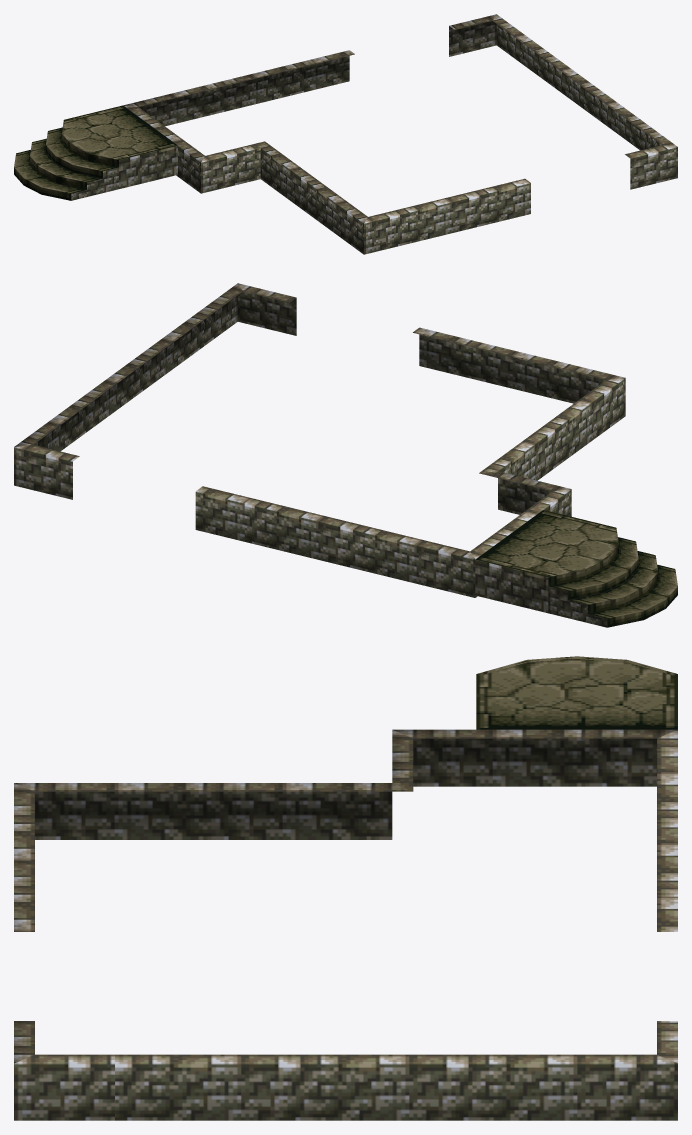
Rendered from EnvBdgMD_Forest_A_Outdoor_House_C_Base.fbx.
3 renders of one model, top to bottom at view 1: azimuth 30°, elevation 25°; view 2: azimuth 150°, elevation 25°; view 3: azimuth 270°, elevation 25°, orthographic. The views are drawn at different scales.
Visible parts, largest first — view 1: EnvBdgMD_Forest_A_Outdoor_House_C_Base; view 2: EnvBdgMD_Forest_A_Outdoor_House_C_Base; view 3: EnvBdgMD_Forest_A_Outdoor_House_C_Base.
Boxes of the visible parts, x1,y1,x2,y2 form: EnvBdgMD_Forest_A_Outdoor_House_C_Base: (14,14,677,254); EnvBdgMD_Forest_A_Outdoor_House_C_Base: (14,283,677,627); EnvBdgMD_Forest_A_Outdoor_House_C_Base: (14,656,677,1120).
Bounding box in the file's own units: 1259 × 75 × 790.
